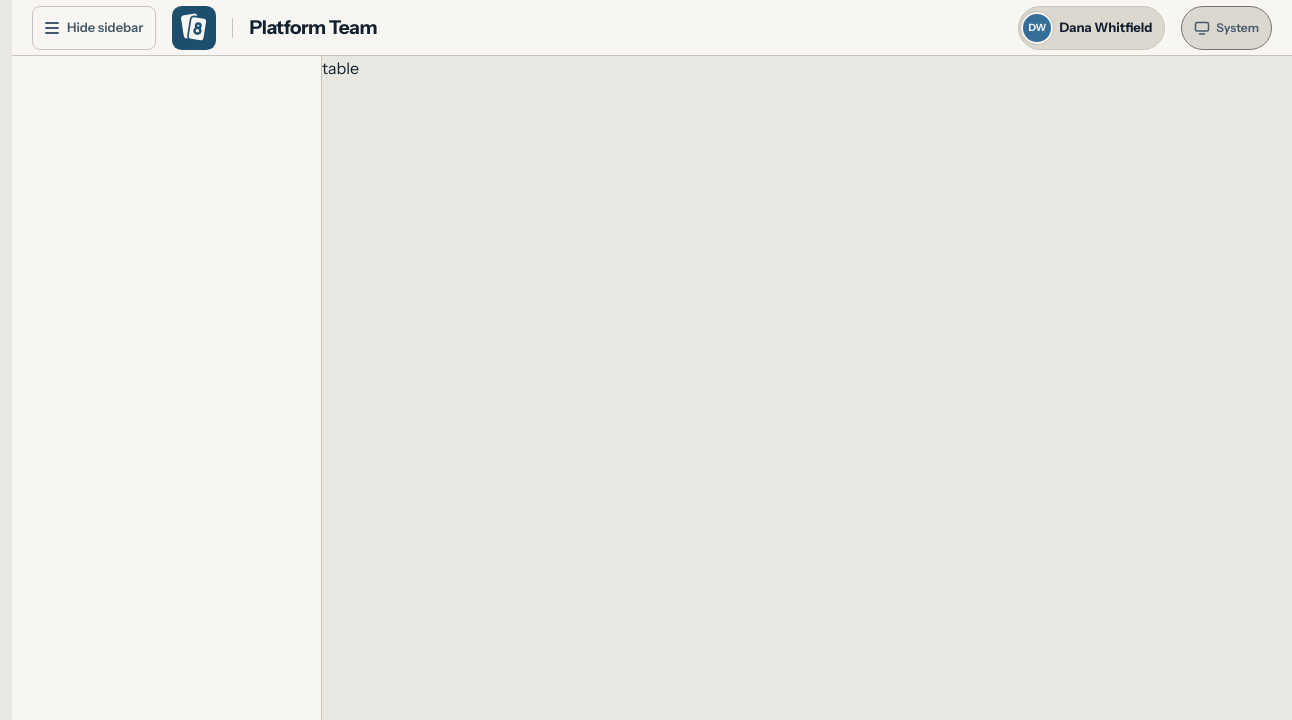
Test: AppShell › toggles the sidebar and reports its state
Click the button "Hide sidebar". click: {"x": 94, "y": 28}
box: [32,6,156,50]
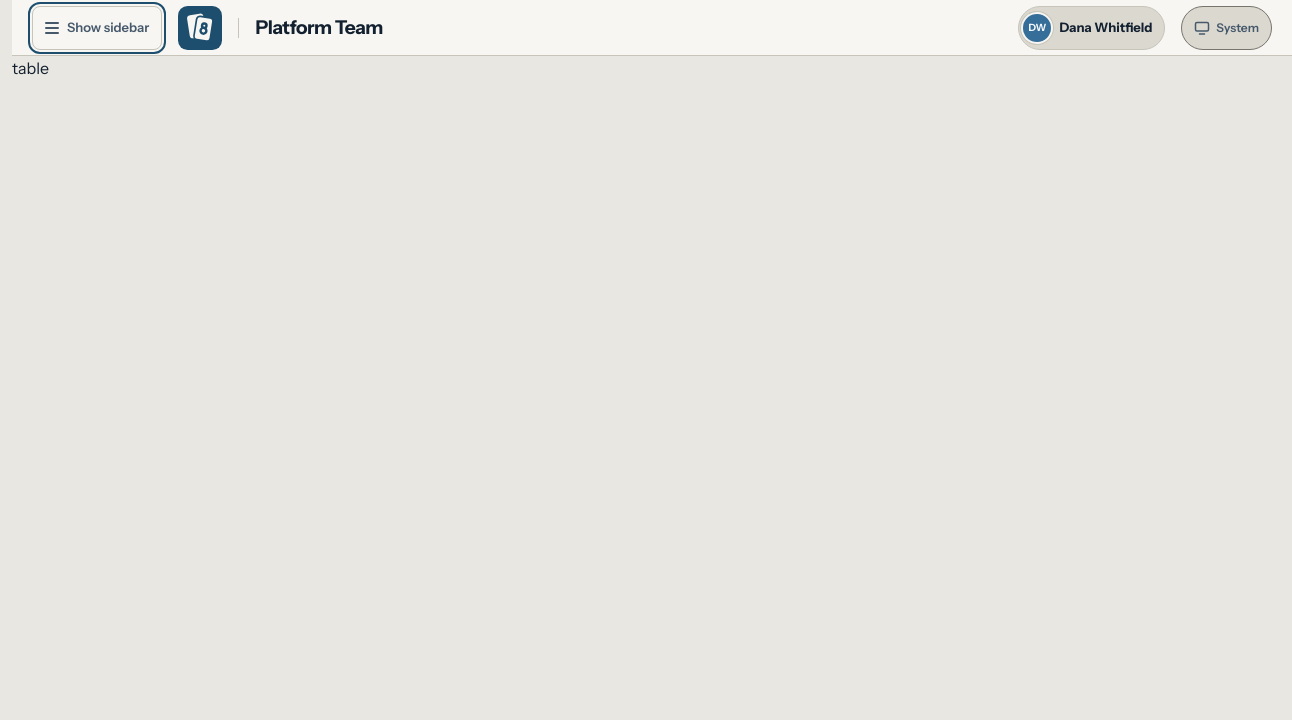
expect the button "Show sidebar" is collapsed: met, box [32,6,162,50]
